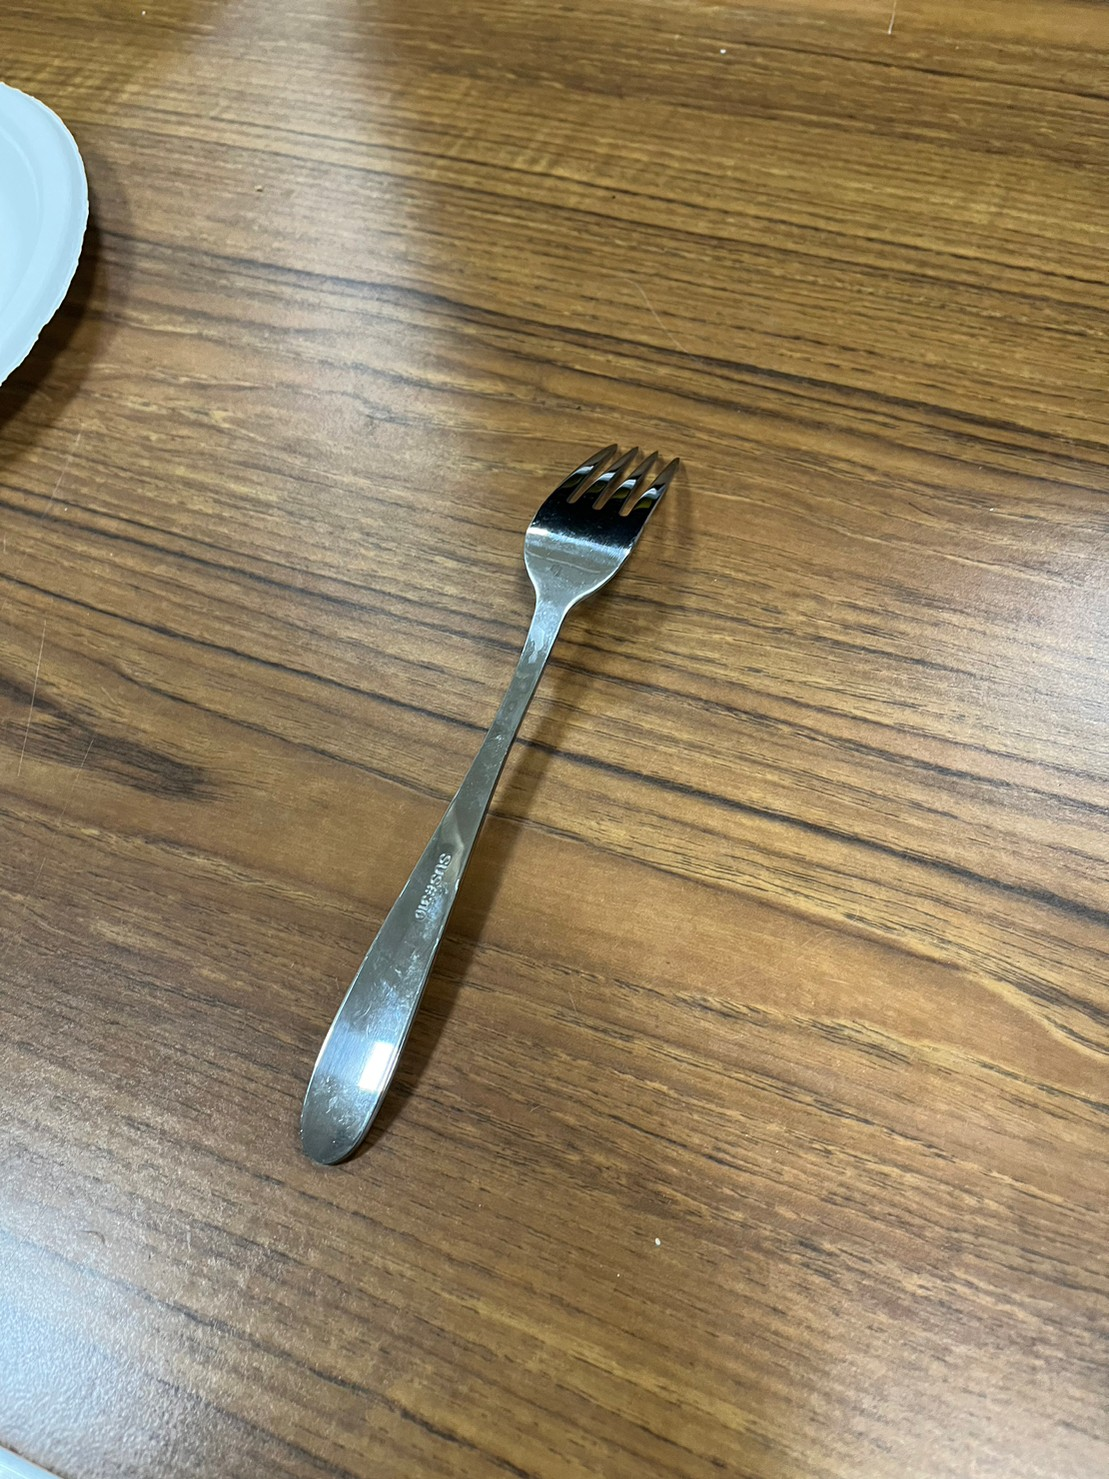fork: (290, 427, 701, 1189)
